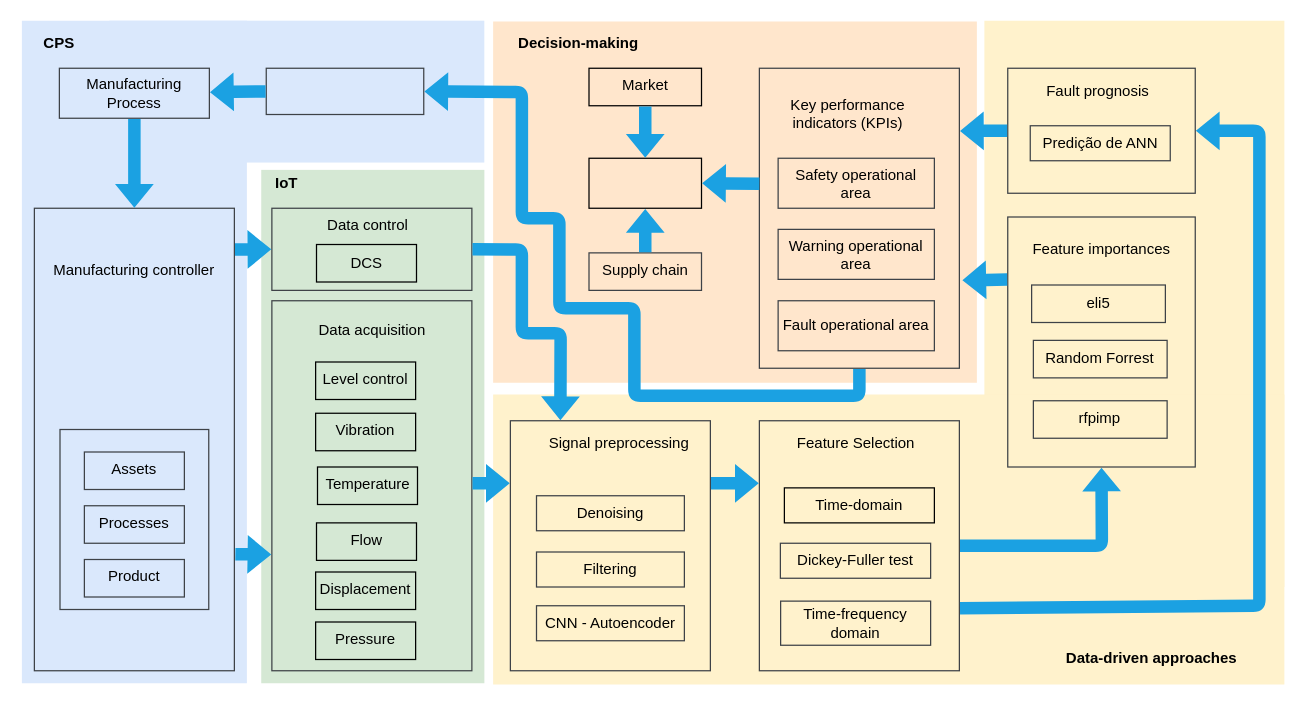
The diagram is 1305 pixels wide and 708 high, and some of its shapes have lost their labels. Here are the shapes that lost their labels. From the top down, the centre of each, then its label:
At (x=344, y=90): "Adjustments and compensation".
At (x=645, y=182): "Results Optimization".
